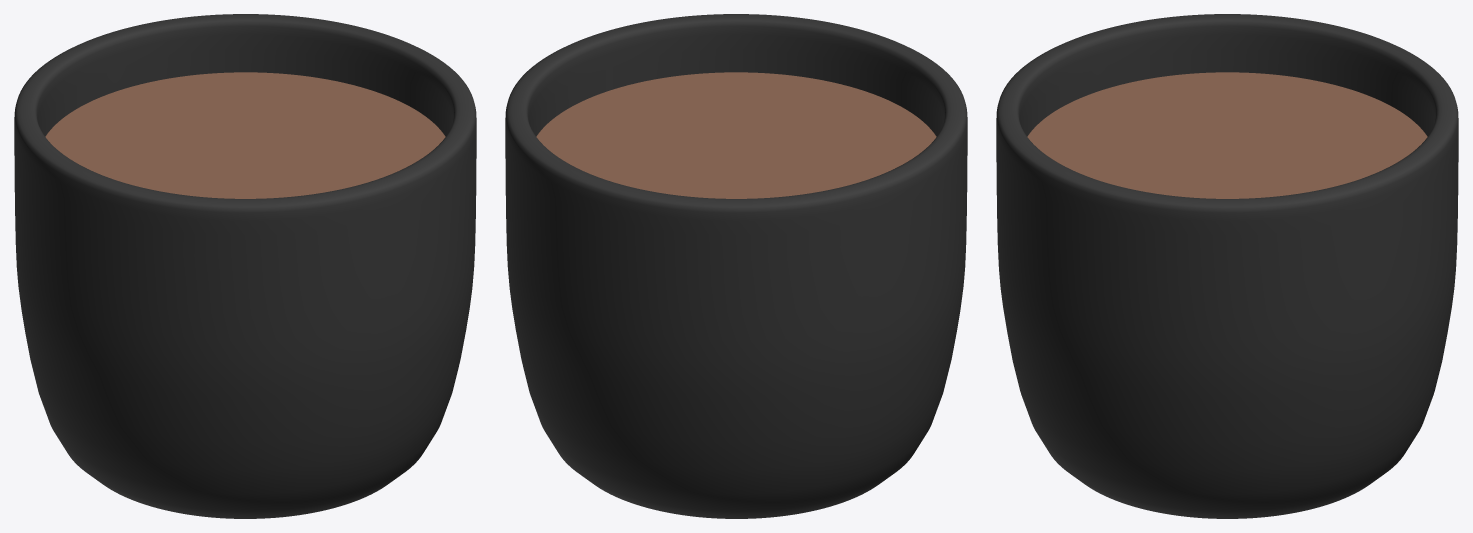
The model's file is basic_black.glb.
3 views of the same model, side by side, from view 1: azimuth 30°, elevation 25°; view 2: azimuth 150°, elevation 25°; view 3: azimuth 270°, elevation 25° (orthographic).
Visible parts, largest first — view 1: Circle.002, Circle.001; view 2: Circle.002, Circle.001; view 3: Circle.002, Circle.001.
Part boxes in pixels (x1,y1,x2,y2): Circle.002: (14,14,476,518); Circle.001: (45,72,445,198); Circle.002: (505,14,967,518); Circle.001: (536,72,936,198); Circle.002: (996,14,1458,518); Circle.001: (1027,72,1427,198).
Size of the model in its own units: 11.86 by 10.04 by 11.86.
